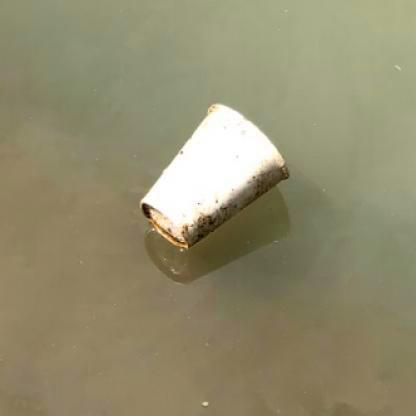Plastic: (134, 100, 293, 254)
